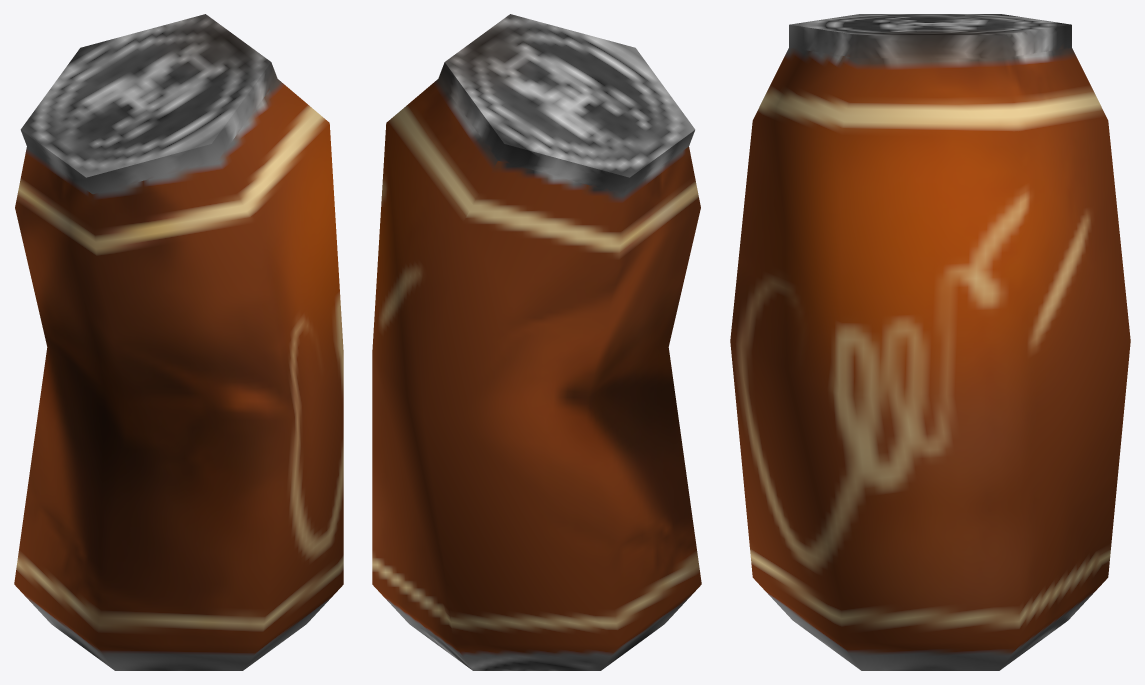
Rendered from SM_Trash_tin_2.FBX.
3 renders of one model, left to right at view 1: azimuth 30°, elevation 25°; view 2: azimuth 150°, elevation 25°; view 3: azimuth 270°, elevation 25°, orthographic. The views are drawn at different scales.
Visible parts, largest first — view 1: Trash_tin_2; view 2: Trash_tin_2; view 3: Trash_tin_2.
Boxes of the visible parts, x1=… form: Trash_tin_2: x1=14, y1=14, x2=343, y2=670; Trash_tin_2: x1=372, y1=14, x2=701, y2=670; Trash_tin_2: x1=730, y1=14, x2=1130, y2=670.
Size of the model in its own units: 4.15 by 5.36 by 9.1.
